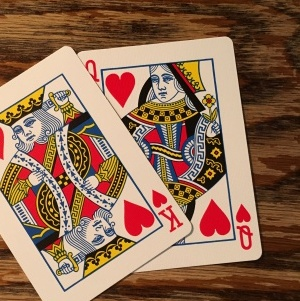card: (76, 36, 264, 265)
